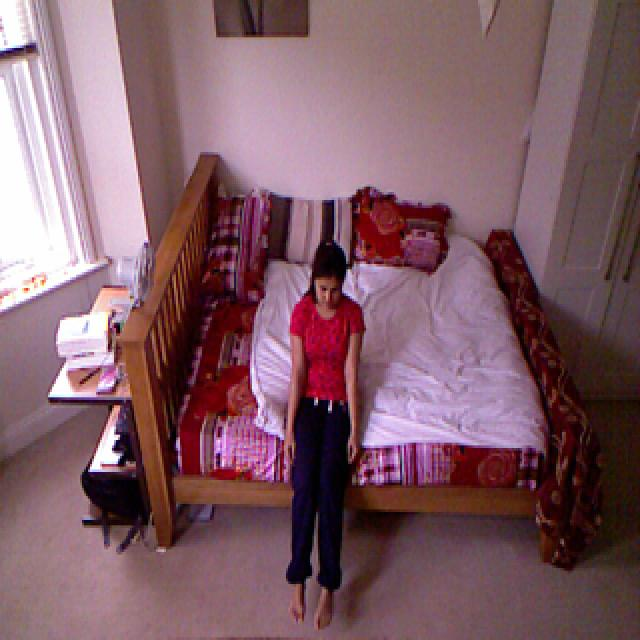sitting: (284, 237, 358, 633)
